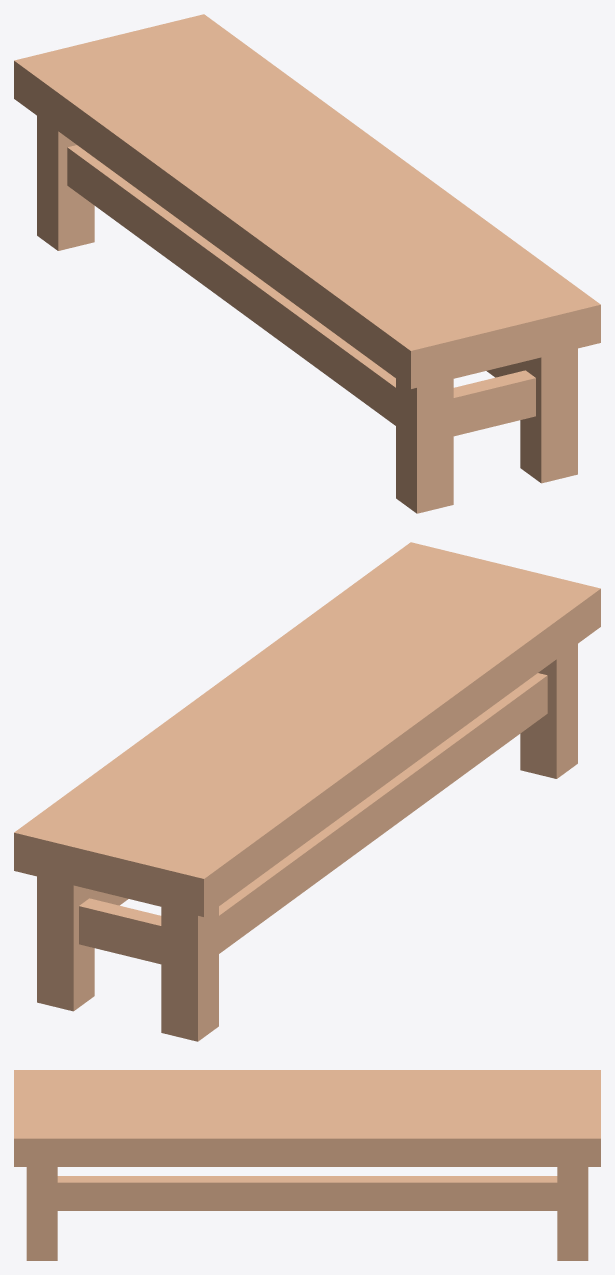
Rendered from stall_bench.glb.
3 views of the same model, one above another, from view 1: azimuth 30°, elevation 25°; view 2: azimuth 150°, elevation 25°; view 3: azimuth 270°, elevation 25° (orthographic). The views are drawn at different scales.
Parts seen in each view (by area): view 1: stallBench; view 2: stallBench; view 3: stallBench.
Boxes of the visible parts, x1,y1,x2,y2 form: stallBench: (14,14,600,513); stallBench: (14,542,600,1041); stallBench: (14,1070,600,1260).
Bounding box in the file's own units: 0.2601 × 0.2255 × 0.94.
